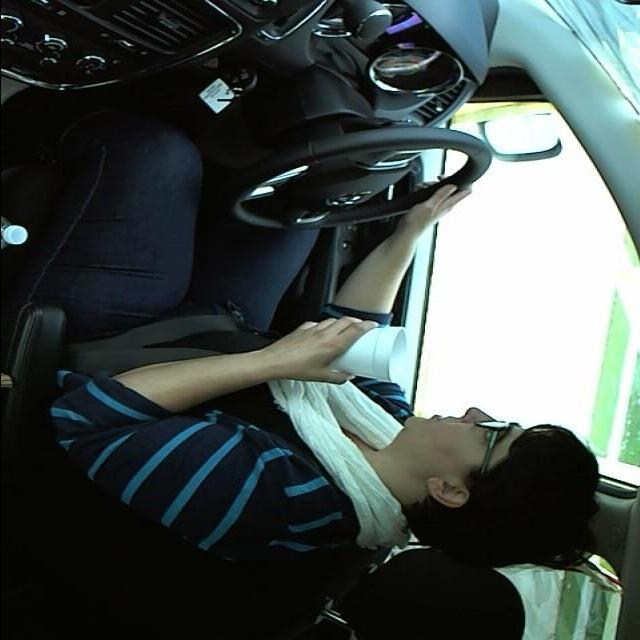drinking: (292, 320, 414, 384)
